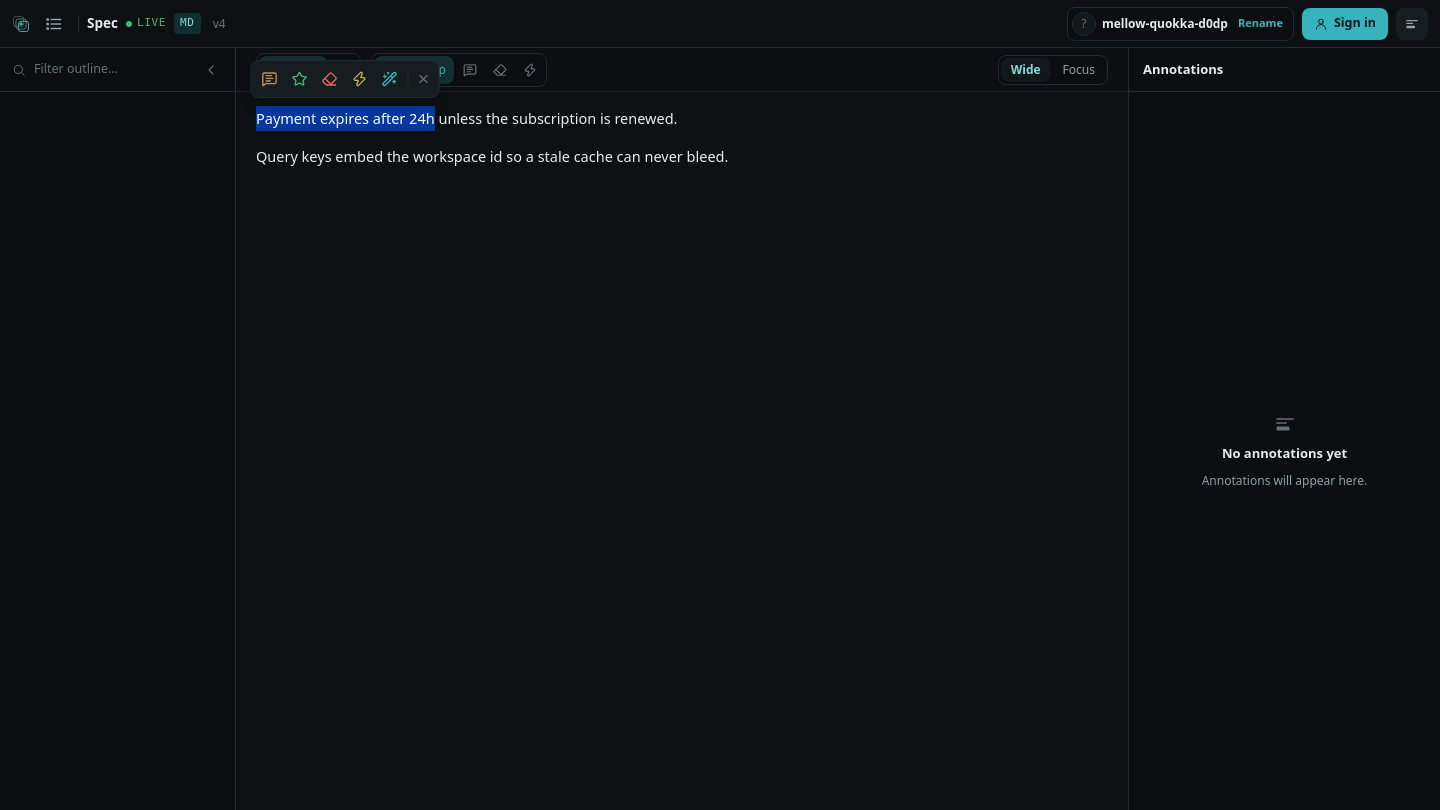
Guest commenting S-007 › AS-019: a guest comment body with HTML renders inert (the script does not run)
Expected: the element with test id "markdown-view" is shown, [256,108,728,166]
Expected: the element with test id "annotations-rail" is shown, [1129,48,1439,489]
Click the button with test id "popover-comment": (270,79) [256,65,284,93]
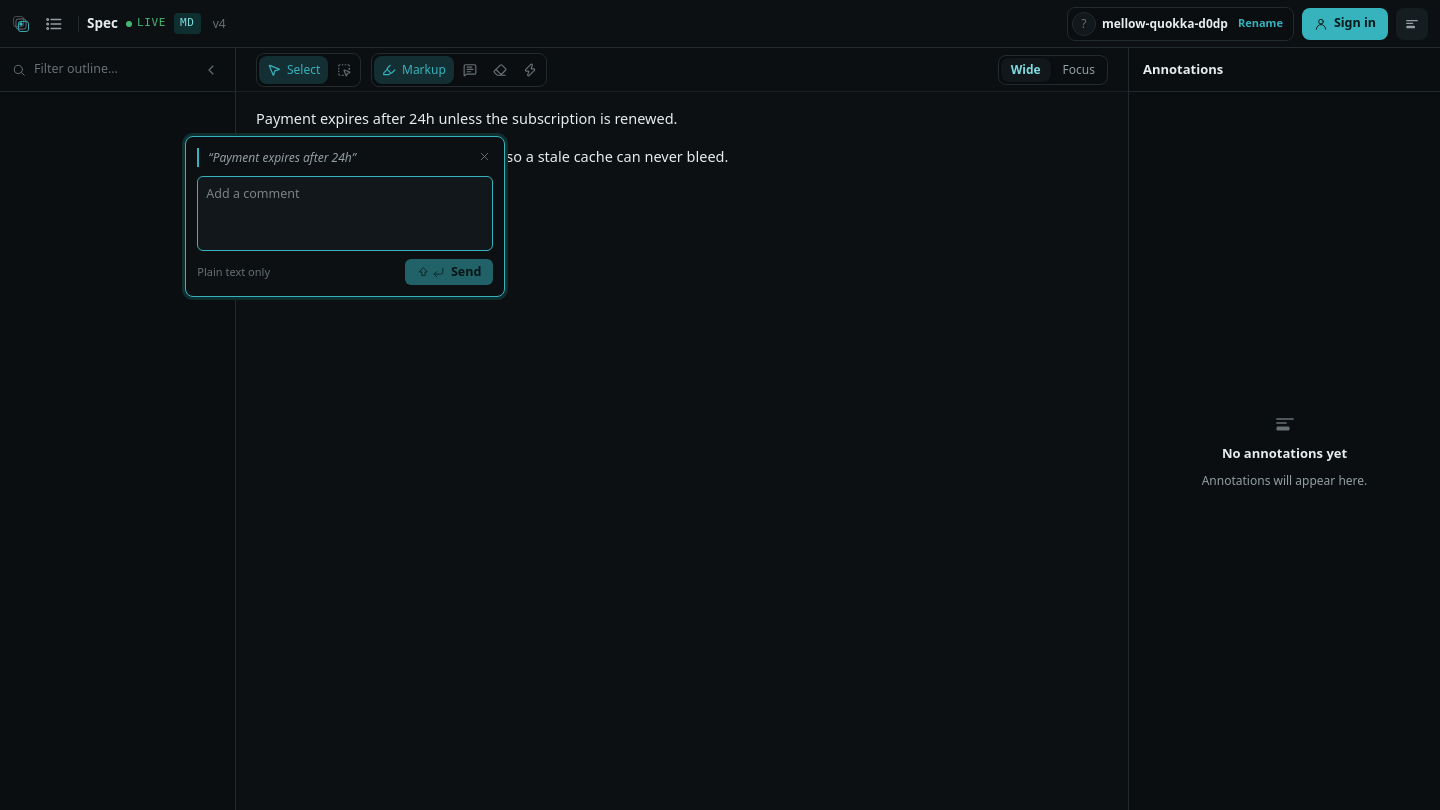
In the text box with test id "composer-input": (345,214) [197,176,493,251], type "<img src=x onerror=alert(1)>"
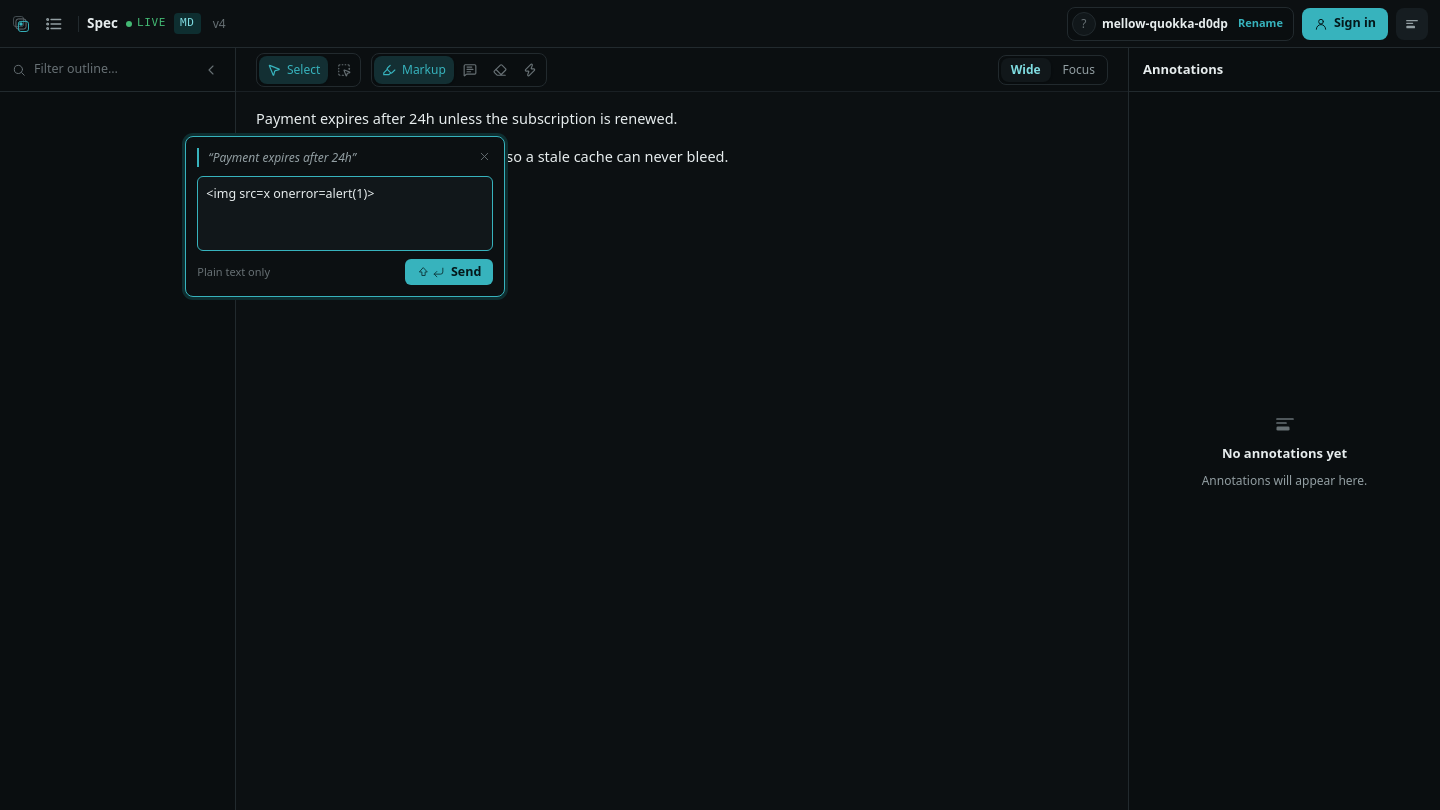
Click the button with test id "composer-send": (449,272) [405,259,493,285]
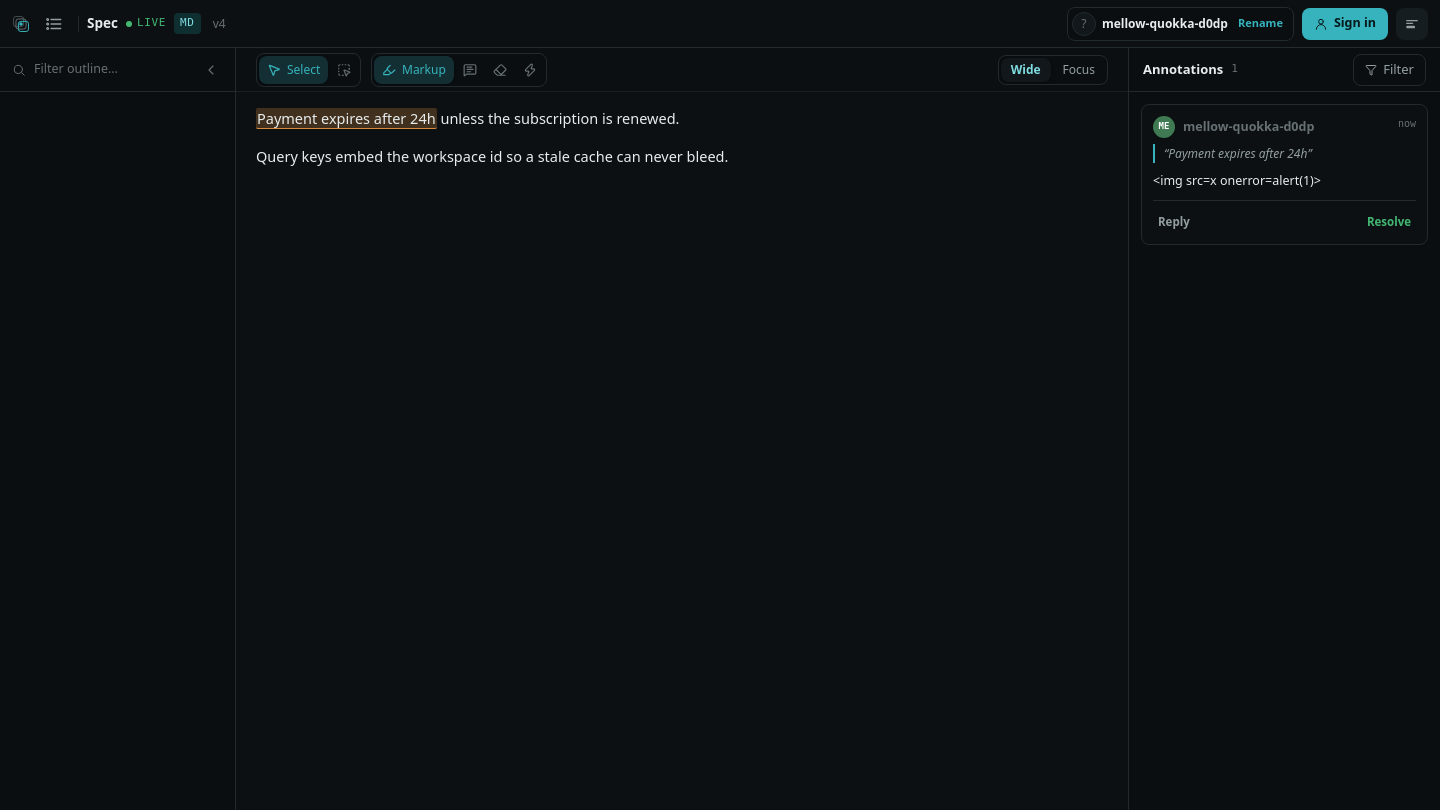
Expected: the button with test id "thread-card" shows "<img src=x onerror=alert(1)>", [1141,104,1428,245]
